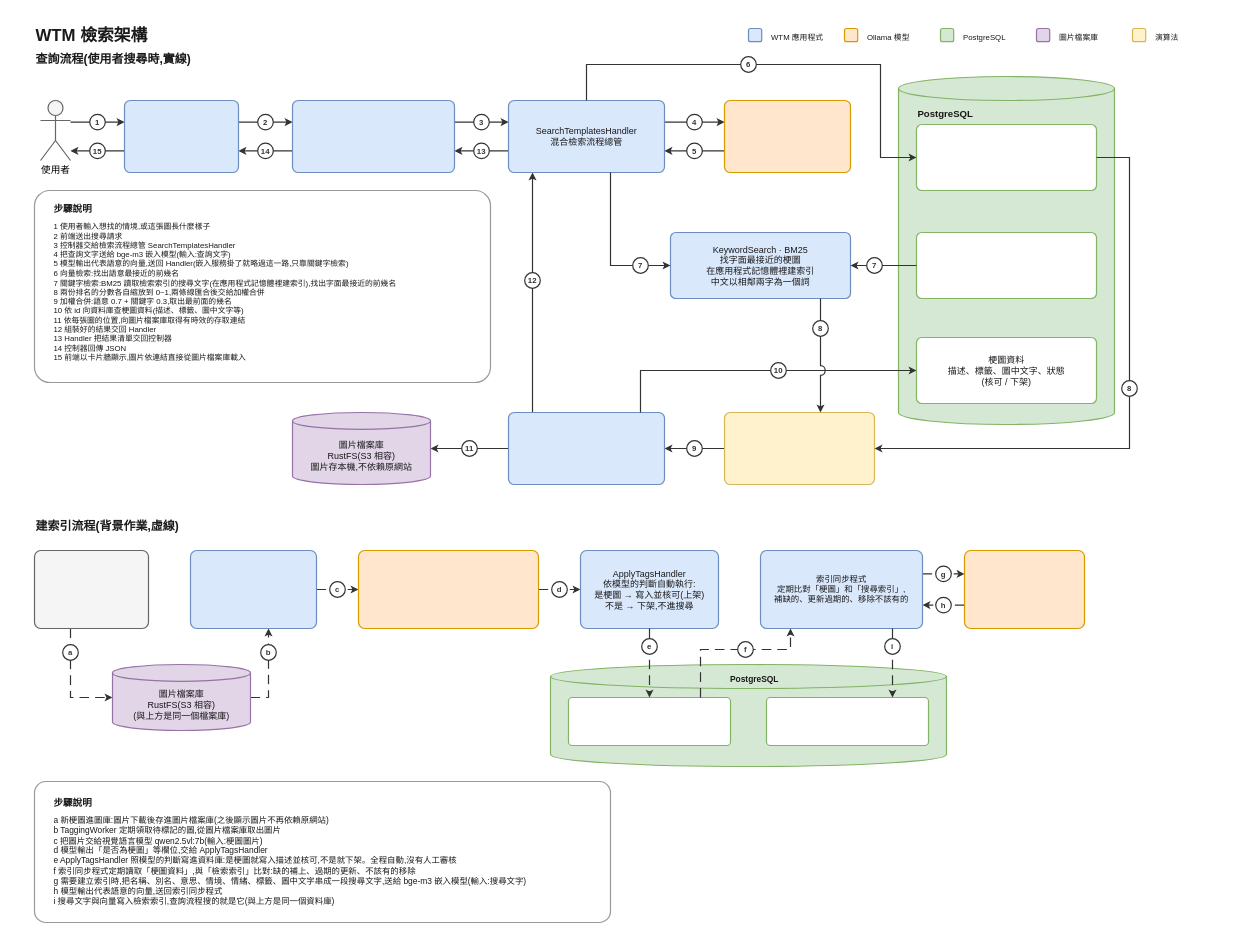
The diagram is 1236 pixels wide and 944 high, and some of its shapes have lost their labels. Here are the shapes that lost their labels. From the top down, the box of each, then its label:
(124, 100, 239, 173): React 前端 搜尋頁 SearchPage
(292, 100, 455, 173): Spring Boot SearchController
(724, 100, 851, 173): Ollama · bge-m3 嵌入模型 輸入:查詢文字 輸出:代表語意的向量
(916, 124, 1097, 191): 檢索索引:向量檢索 找語意最接近的梗圖 pgvector 只搜尋已核可的梗圖
(916, 232, 1097, 299): 檢索索引:搜尋文字 名稱、意思、情境、標籤等串成一段 供 BM25 讀取 只含已核可的梗圖
(508, 412, 665, 485): 組裝結果 梗圖資料 + 圖片存取連結
(724, 412, 875, 485): 加權合併 語意 0.7 + 關鍵字 0.3 兩份分數先縮放到 0~1
(34, 550, 149, 629): 梗圖進圖庫 上傳 · 貼網址 收件匣
(190, 550, 317, 629): TaggingWorker 排程:領取待標記的圖, 控制同時處理的張數
(358, 550, 539, 629): Ollama · qwen2.5vl:7b 視覺語言模型 輸入:梗圖圖片 輸出:是否為梗圖、名稱、意思、 使用情境、情緒、標籤、圖中文字
(964, 550, 1085, 629): Ollama · bge-m3 嵌入模型 輸入:搜尋文字 輸出:代表語意的向量
(568, 697, 731, 746): 梗圖資料 描述、標籤、狀態
(766, 697, 929, 746): 檢索索引 搜尋文字 + 向量
